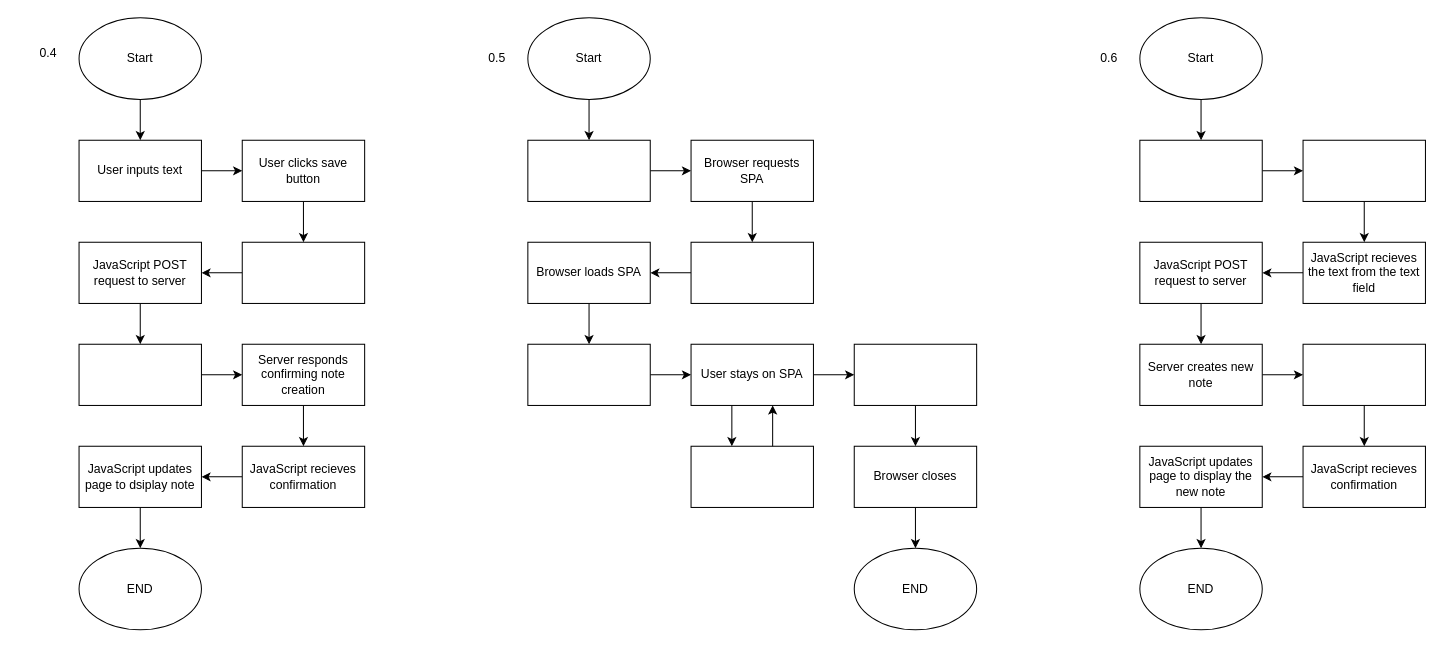
Image size: 1443x648. Some labels were removed from this diagram. The shapes that lost their labels are listed below. From the top down, each one's centre as x and y in pixels, then its label:
pixel 588 170: User opens the browser
pixel 1200 170: User interacts with the SPA
pixel 1363 170: User creates new note
pixel 303 272: JavaScript code fetches the text from text field
pixel 751 272: Server sends SPA
pixel 139 374: Server creates a new note
pixel 588 374: User interacts with SPA
pixel 915 374: No?
pixel 1363 374: Server responds confirming the note creation
pixel 751 476: Yes?
